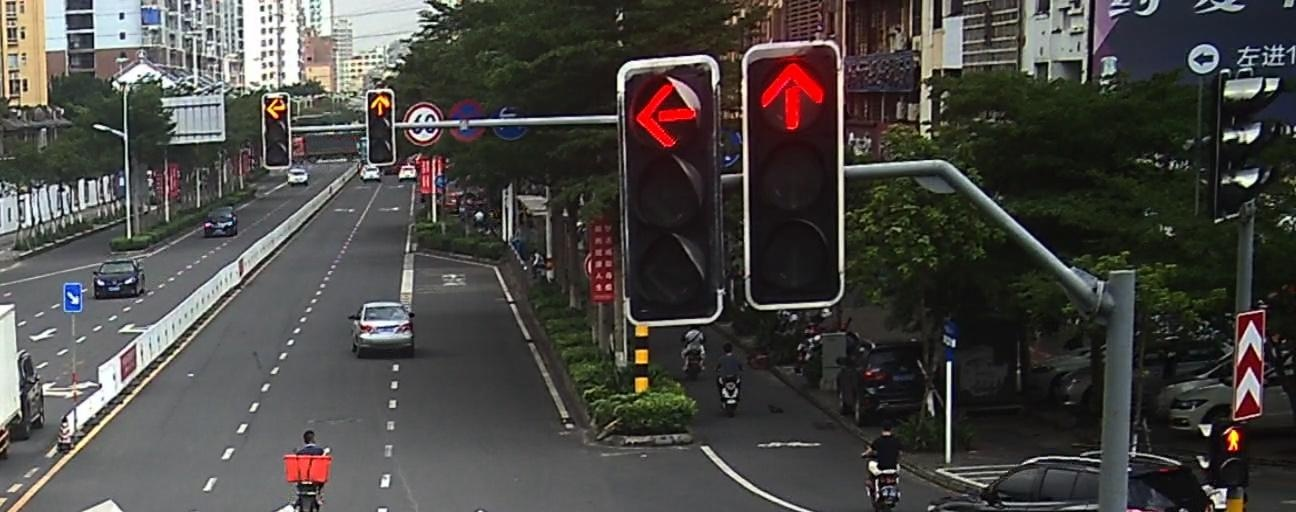redleft: (633, 80, 701, 151), (263, 96, 287, 121)
redpeople: (1221, 424, 1244, 454)
redstraight: (757, 59, 828, 134), (368, 93, 392, 117)
